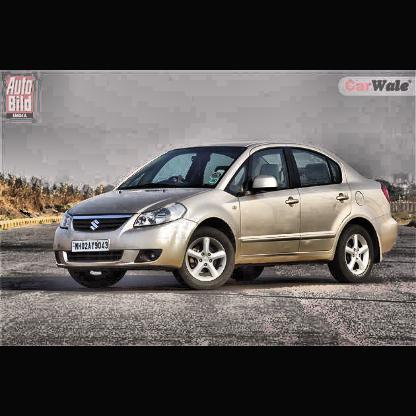Suzuki SX4 Sedan 2012: (54, 141, 401, 292)
